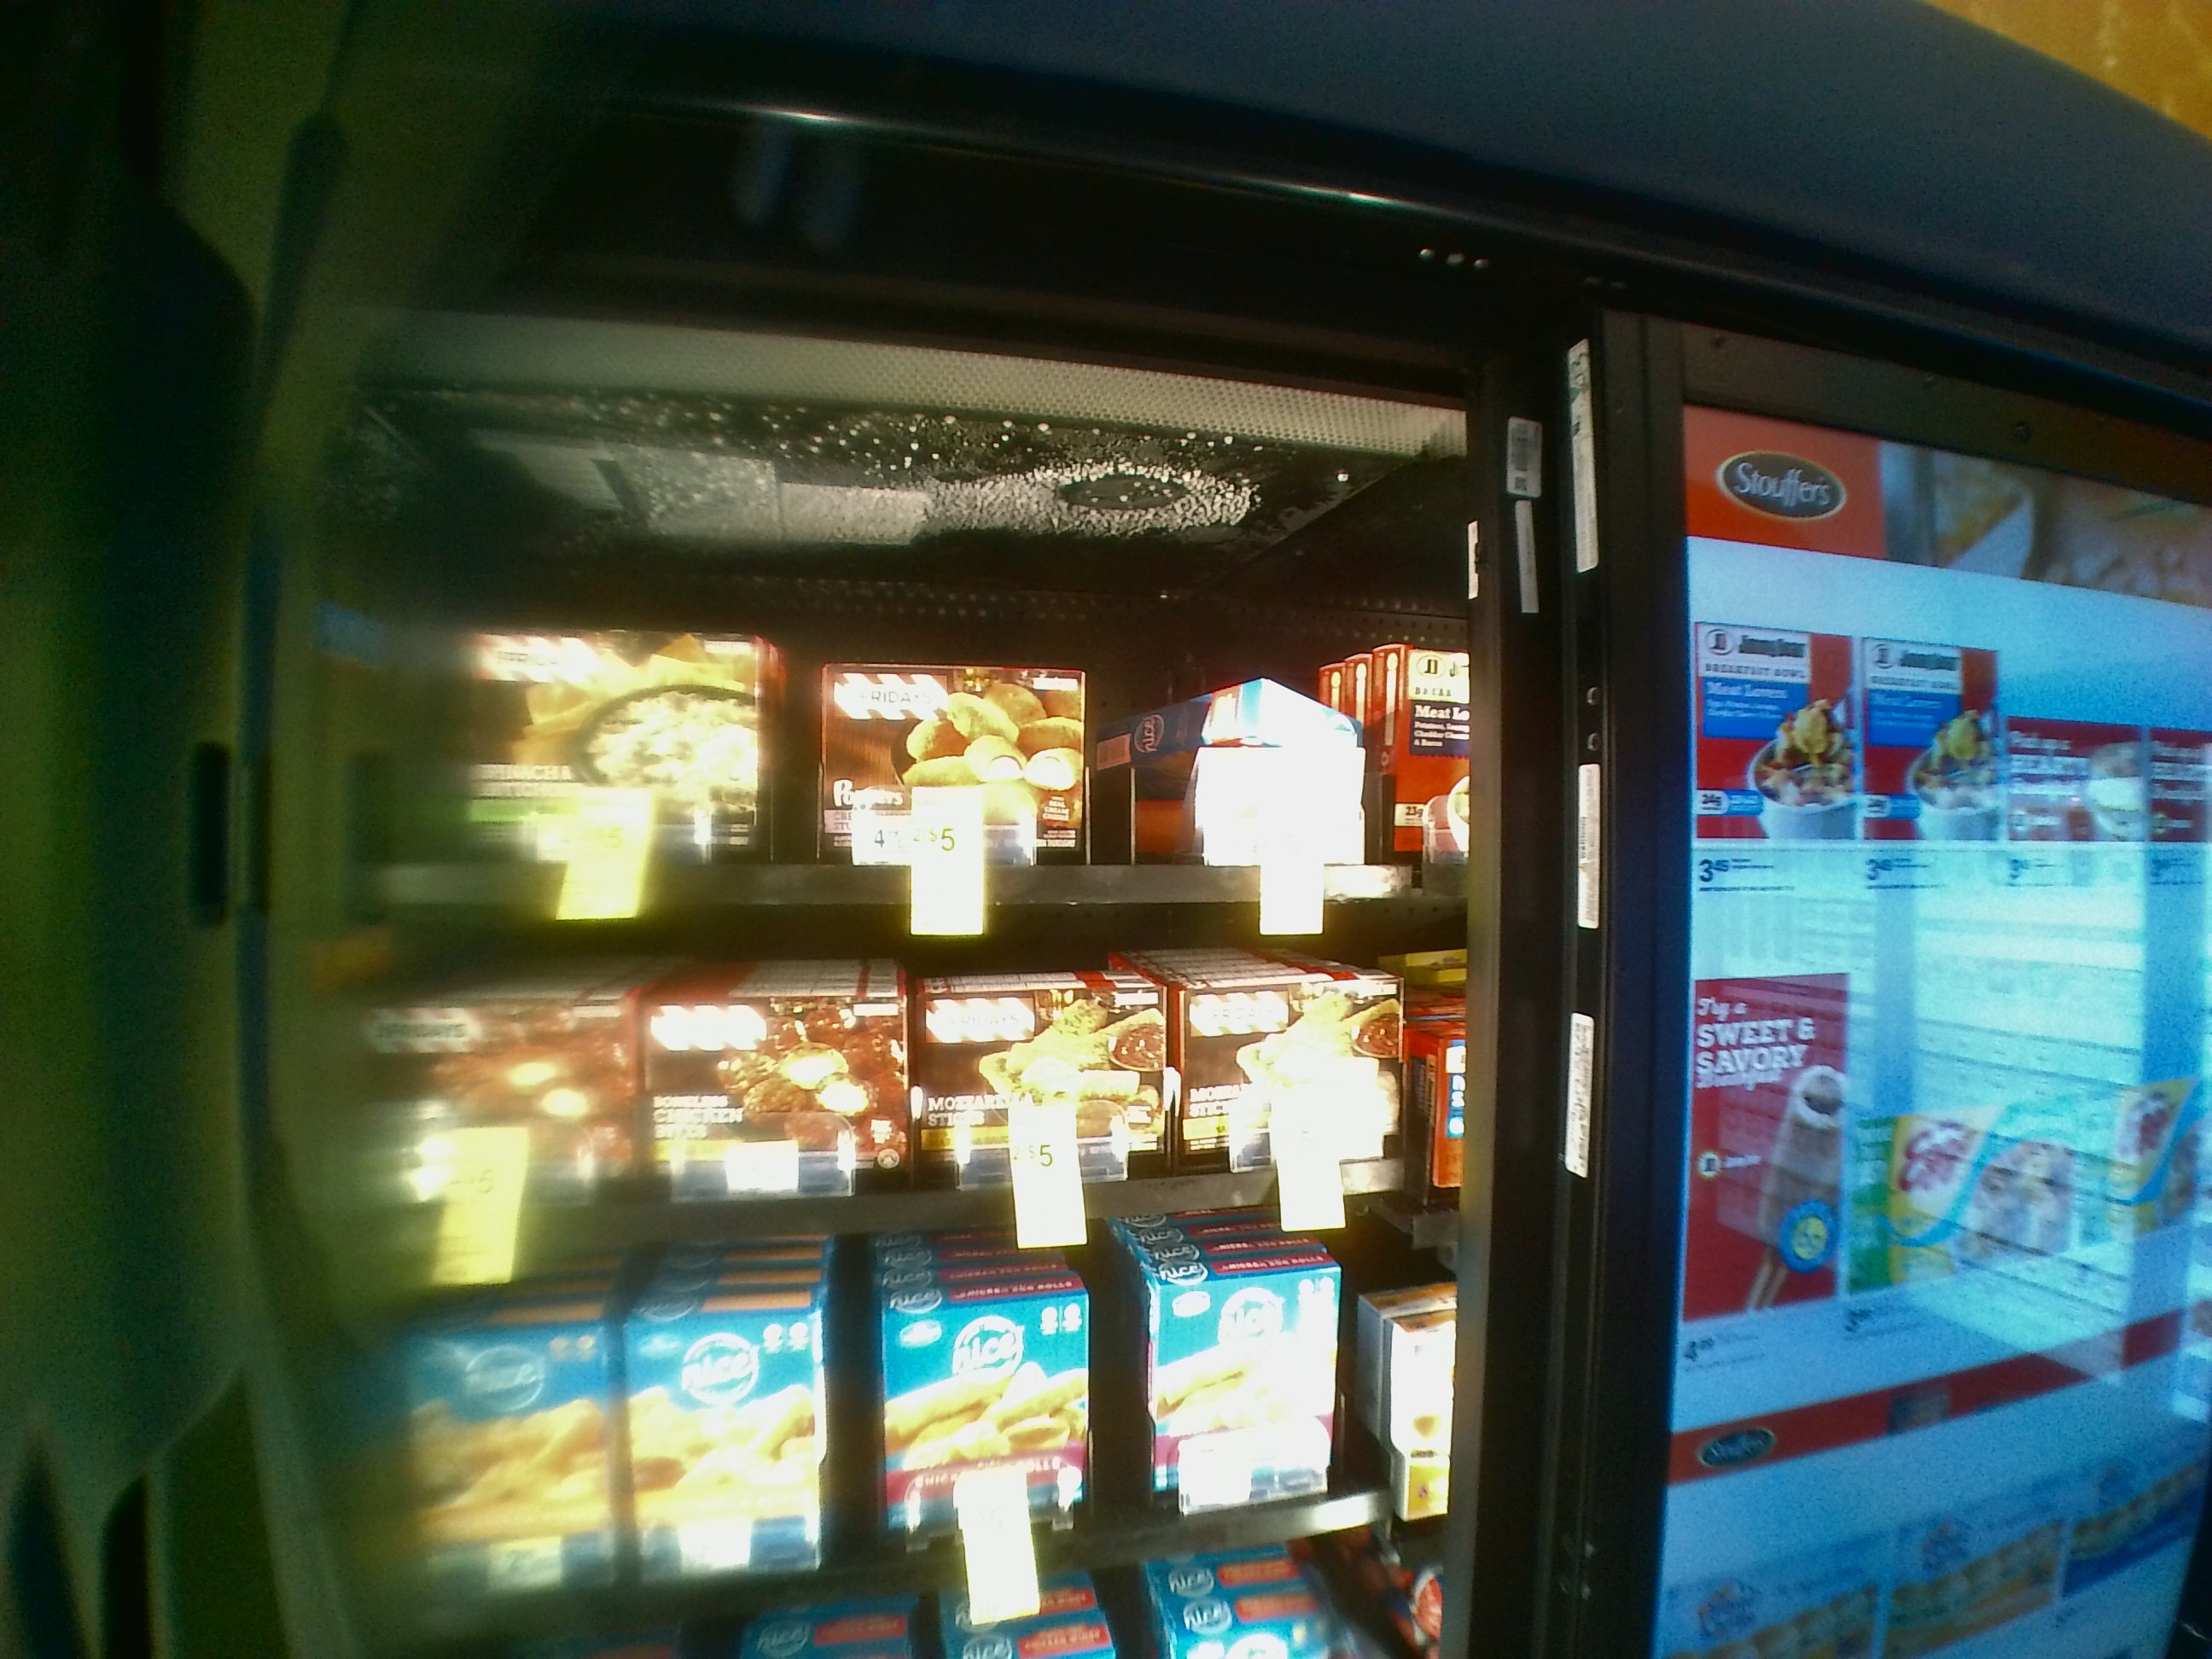shelf: (308, 467, 1456, 903), (315, 922, 1447, 1281)
